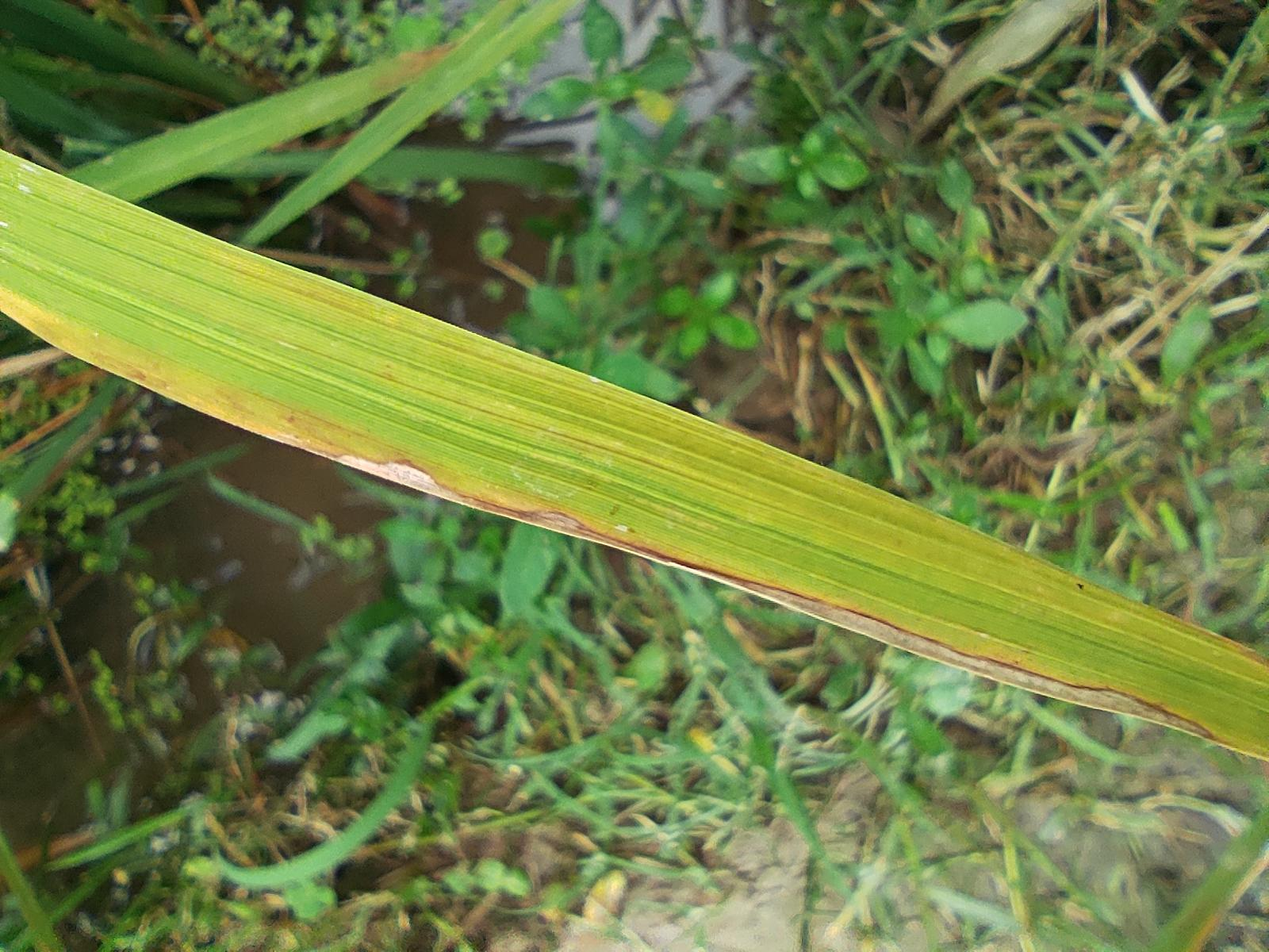BLB: (268, 206, 694, 927)
LEAF: (254, 0, 1069, 951)
